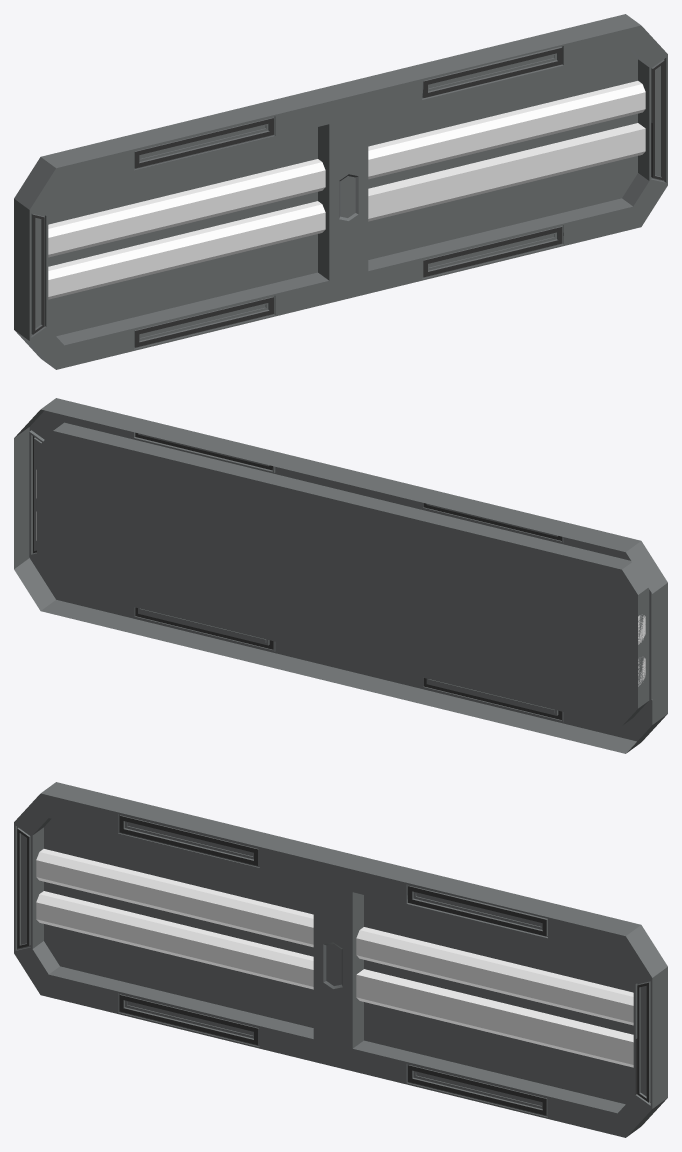
Rendered from Light Fixture 2.fbx.
3 views of the same model, one above another, from view 1: azimuth 30°, elevation 25°; view 2: azimuth 150°, elevation 25°; view 3: azimuth 330°, elevation 25° (orthographic).
Parts seen in each view (by area): view 1: Light_Frame, Light_Pieces; view 2: Light_Frame; view 3: Light_Frame, Light_Pieces.
Boxes of the visible parts, bbox=[...] form: Light_Frame: bbox=[14, 14, 667, 369]; Light_Pieces: bbox=[48, 81, 645, 299]; Light_Frame: bbox=[14, 398, 667, 753]; Light_Frame: bbox=[14, 782, 667, 1137]; Light_Pieces: bbox=[36, 849, 633, 1067].
Size of the model in its own units: 155 by 46.69 by 6.56.
